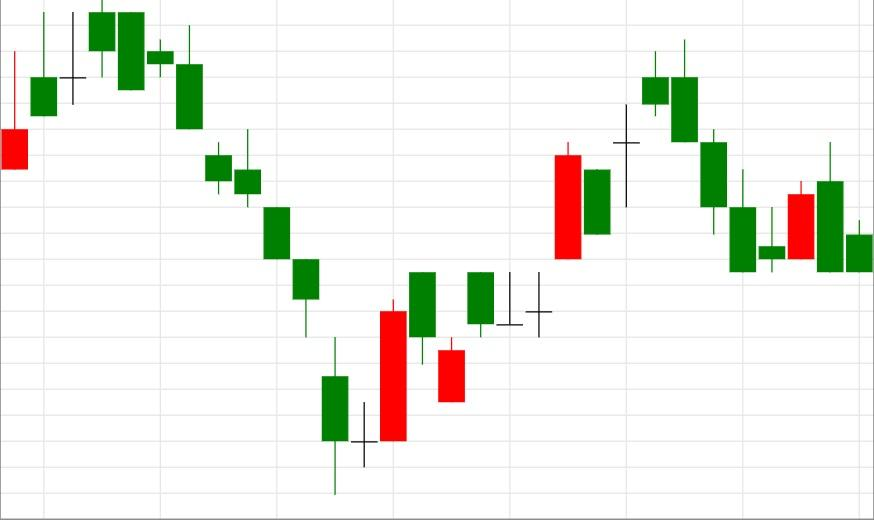morning_star_rise: (117, 10, 408, 496)
three_black_crows_fall: (524, 39, 757, 337)
